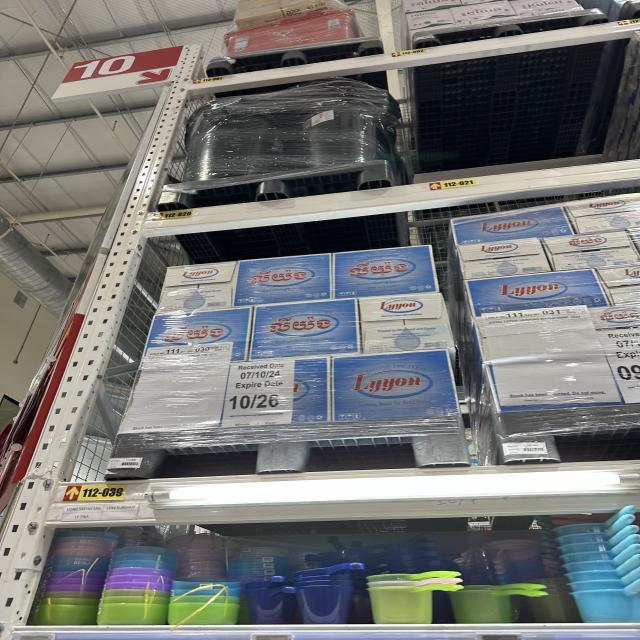Yolov11_80vkh: (255, 311, 338, 342), (342, 254, 411, 279), (244, 265, 312, 289)
